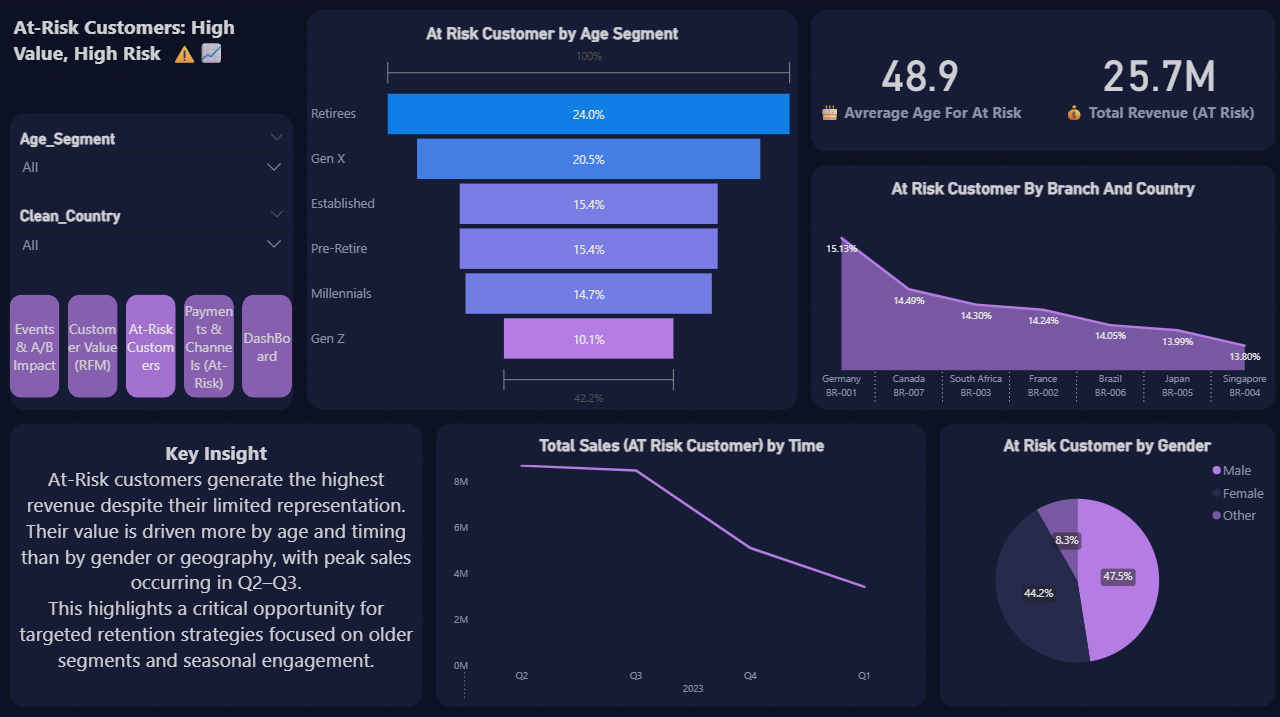

This screenshot's page, from the dashboard's own definition file:
{"tool":"powerbi","page":{"name":"At-Risk Customers","canvas":[1600,900],"ordinal":2},"visuals":[{"type":"shape","box":[16,528,512,352],"z":0},{"type":"shape","box":[544,528,608,352],"z":1000},{"type":"shape","box":[1008,208,576,304],"z":2000},{"type":"shape","box":[384,16,608,496],"z":3000},{"type":"shape","box":[1168,528,416,352],"z":4000},{"type":"shape","box":[1008,16,576,176],"z":5000},{"type":"pieChart","fields":{"Category":["arpand_ecommerce_dataset.Gender"],"Y":["Measure Table.At Risk Customer"]},"box":[1168,544,416,336],"z":6000},{"type":"areaChart","title":"At Risk Customer By Branch And Country","fields":{"Category":["arpand_ecommerce_dataset.BranchID","arpand_ecommerce_dataset.Clean_Country"],"Y":["Divide(Measure Table.At Risk Customer, ScopedEval(Measure Table.At Risk Customer, []))"]},"box":[1008,224,576,288],"z":7000},{"type":"card","fields":{"Values":["Measure Table.Avg Age For At Risk"]},"box":[1008,16,272,176],"z":8000},{"type":"lineChart","title":"Total Sales (AT Risk Customer) by Time","fields":{"Y":["Measure Table.Sum Sales (AT Risk Customer)"],"Category":["Date Table.Year Hierarchy.Year","Date Table.Year Hierarchy.Quarter","Date Table.Year Hierarchy.Month","Date Table.Year Hierarchy.Day"]},"box":[560,544,576,336],"z":9000},{"type":"card","fields":{"Values":["Measure Table.Sum Sales (AT Risk Customer)"]},"box":[1296,16,288,176],"z":10000},{"type":"funnel","title":"At Risk Customer by Age Segment","fields":{"Category":["arpand_ecommerce_dataset.Age_Segment"],"Y":["Divide(Measure Table.At Risk Customer, ScopedEval(Measure Table.At Risk Customer, []))"]},"box":[384,32,608,480],"z":11000},{"type":"textbox","box":[16,544,512,336],"z":12000},{"type":"shape","box":[16,144,352,368],"z":13000},{"type":"slicer","fields":{"Values":["arpand_ecommerce_dataset.Age_Segment"]},"box":[16,160,352,80],"z":14000},{"type":"slicer","fields":{"Values":["arpand_ecommerce_dataset.Clean_Country"]},"box":[16,256,352,80],"z":15000},{"type":"pageNavigator","box":[16,368,352,128],"z":16000},{"type":"textbox","box":[16,16,352,96],"z":17000}]}

Visuals, with their boxes in screenshot pixels (x1, y1, x2, y2), scaled from the page's 1600x900 canvas onto the 1280x717 screenshot:
shape: {"x1": 13, "y1": 421, "x2": 422, "y2": 701}
shape: {"x1": 435, "y1": 421, "x2": 922, "y2": 701}
shape: {"x1": 806, "y1": 166, "x2": 1267, "y2": 408}
shape: {"x1": 307, "y1": 13, "x2": 794, "y2": 408}
shape: {"x1": 934, "y1": 421, "x2": 1267, "y2": 701}
shape: {"x1": 806, "y1": 13, "x2": 1267, "y2": 153}
pieChart - arpand_ecommerce_dataset.Gender x Measure Table.At Risk Customer: {"x1": 934, "y1": 433, "x2": 1267, "y2": 701}
"At Risk Customer By Branch And Country" areaChart: {"x1": 806, "y1": 178, "x2": 1267, "y2": 408}
card - Measure Table.Avg Age For At Risk: {"x1": 806, "y1": 13, "x2": 1024, "y2": 153}
"Total Sales (AT Risk Customer) by Time" lineChart: {"x1": 448, "y1": 433, "x2": 909, "y2": 701}
card - Measure Table.Sum Sales (AT Risk Customer): {"x1": 1037, "y1": 13, "x2": 1267, "y2": 153}
"At Risk Customer by Age Segment" funnel: {"x1": 307, "y1": 25, "x2": 794, "y2": 408}
textbox: {"x1": 13, "y1": 433, "x2": 422, "y2": 701}
shape: {"x1": 13, "y1": 115, "x2": 294, "y2": 408}
slicer - arpand_ecommerce_dataset.Age_Segment: {"x1": 13, "y1": 127, "x2": 294, "y2": 191}
slicer - arpand_ecommerce_dataset.Clean_Country: {"x1": 13, "y1": 204, "x2": 294, "y2": 268}
pageNavigator: {"x1": 13, "y1": 293, "x2": 294, "y2": 395}
textbox: {"x1": 13, "y1": 13, "x2": 294, "y2": 89}
